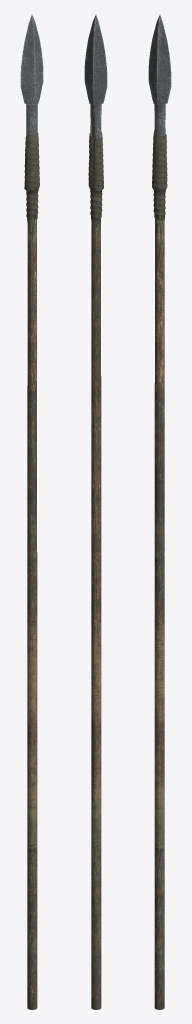
Rendered from Speer.dae.
3 renders of one model, left to right at view 1: azimuth 30°, elevation 25°; view 2: azimuth 150°, elevation 25°; view 3: azimuth 330°, elevation 25°, orthographic.
Visible parts, largest first — view 1: Speer_High; view 2: Speer_High; view 3: Speer_High.
Boxes of the visible parts, bbox=[...] form: Speer_High: bbox=[20, 14, 43, 1009]; Speer_High: bbox=[84, 14, 107, 1009]; Speer_High: bbox=[148, 14, 171, 1009].
Bounding box in the file's own units: 0.0532 × 0.0296 × 2.2.
1 material, 1 textured.
